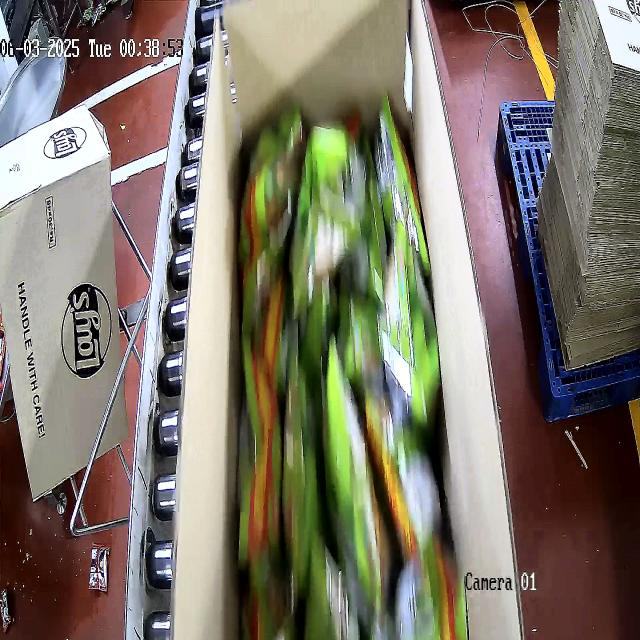YOGURT_HERB: (237, 93, 460, 638)
